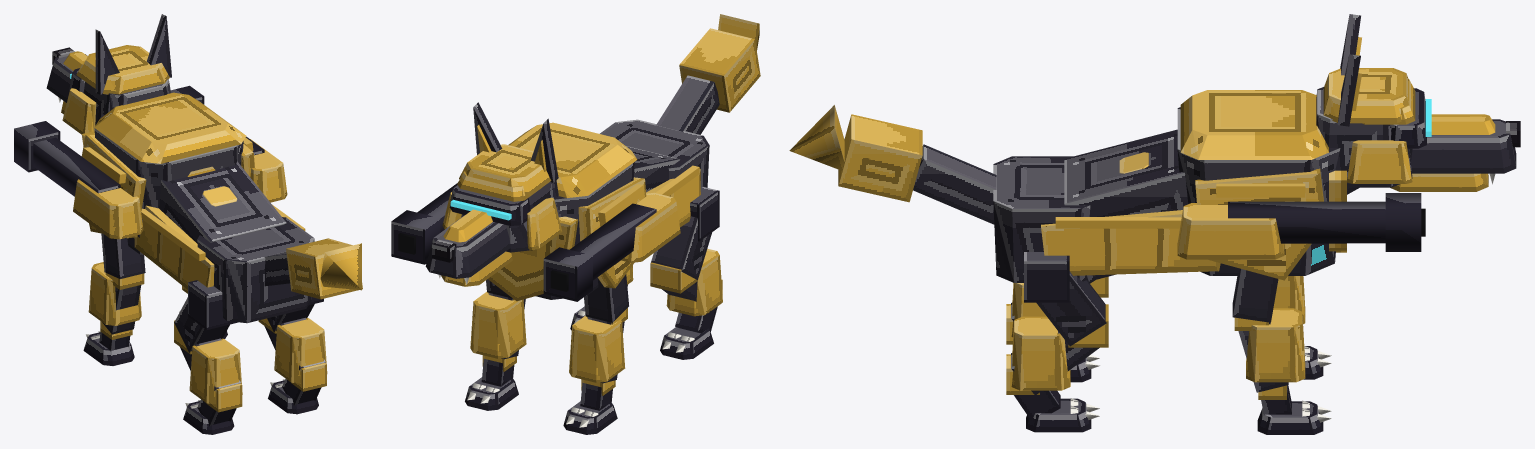
Rendered from bda-liger.glb.
3 renders of one model, left to right at view 1: azimuth 30°, elevation 25°; view 2: azimuth 150°, elevation 25°; view 3: azimuth 270°, elevation 25°, orthographic. The views are drawn at different scales.
Visible parts, largest first — view 1: liger-22; view 2: liger-22, object 2; view 3: liger-22, object 2.
Boxes of the visible parts, x1=… form: liger-22: x1=14, y1=14, x2=362, y2=434; liger-22: x1=391, y1=14, x2=760, y2=434; object 2: x1=441, y1=251, x2=512, y2=286; liger-22: x1=789, y1=14, x2=1520, y2=434; object 2: x1=1390, y1=173, x2=1488, y2=191.
Bounding box in the file's own units: 0.9408 × 1.52 × 2.76.
93 materials, 91 textured.
